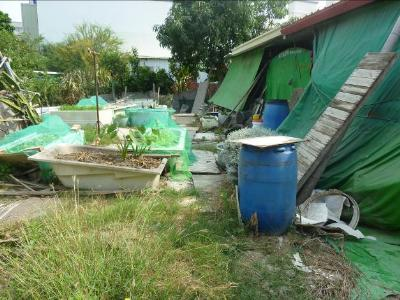bucket: (237, 143, 299, 237)
plastic_bag: (285, 4, 398, 299)
plate: (263, 96, 291, 107)
